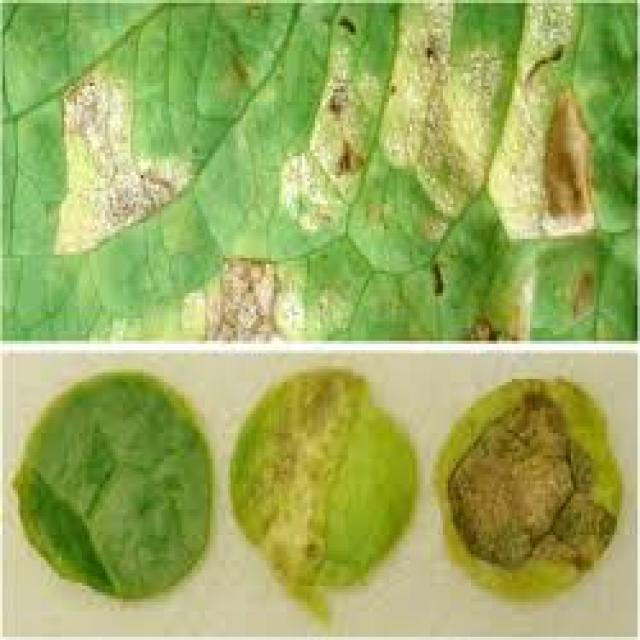Downy_mildew_on_lettuce: (287, 30, 619, 259), (234, 378, 422, 612), (444, 372, 622, 613)
